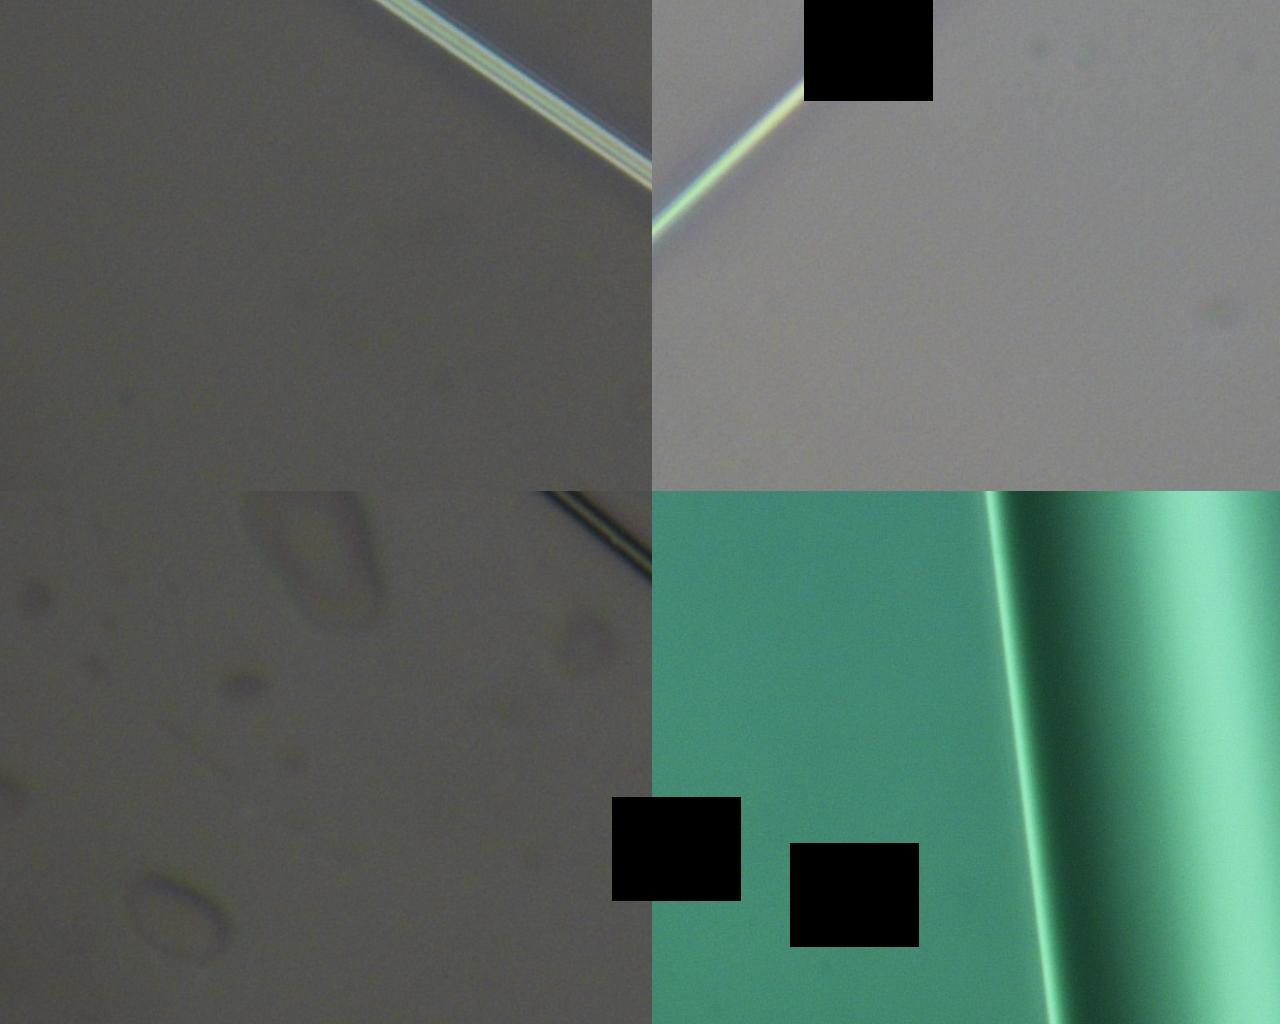fiber: (579, 0, 801, 1024)
